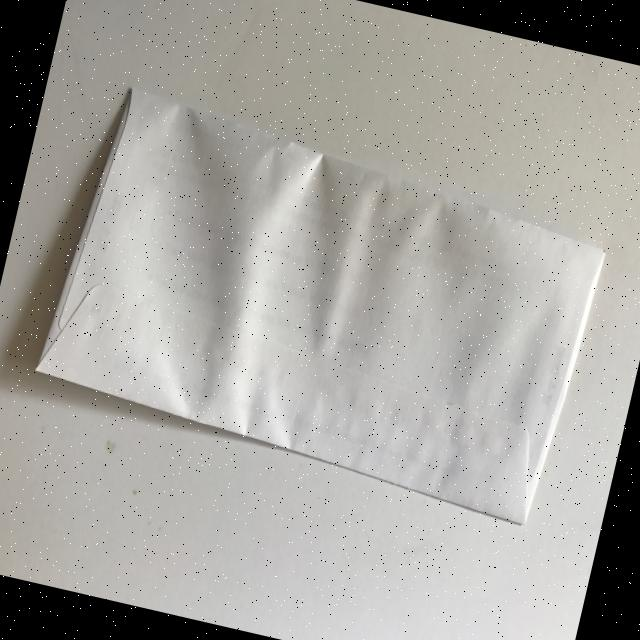paper: (25, 78, 618, 530)
